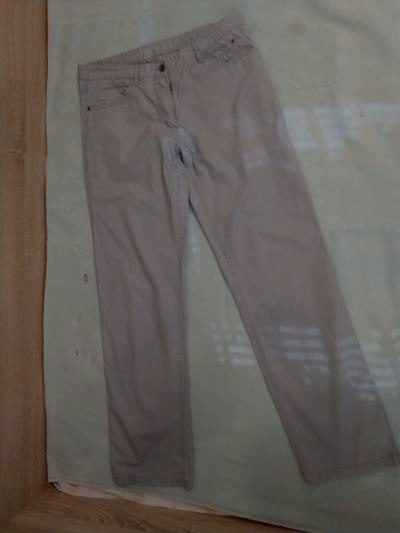Pants: (59, 12, 382, 511)
